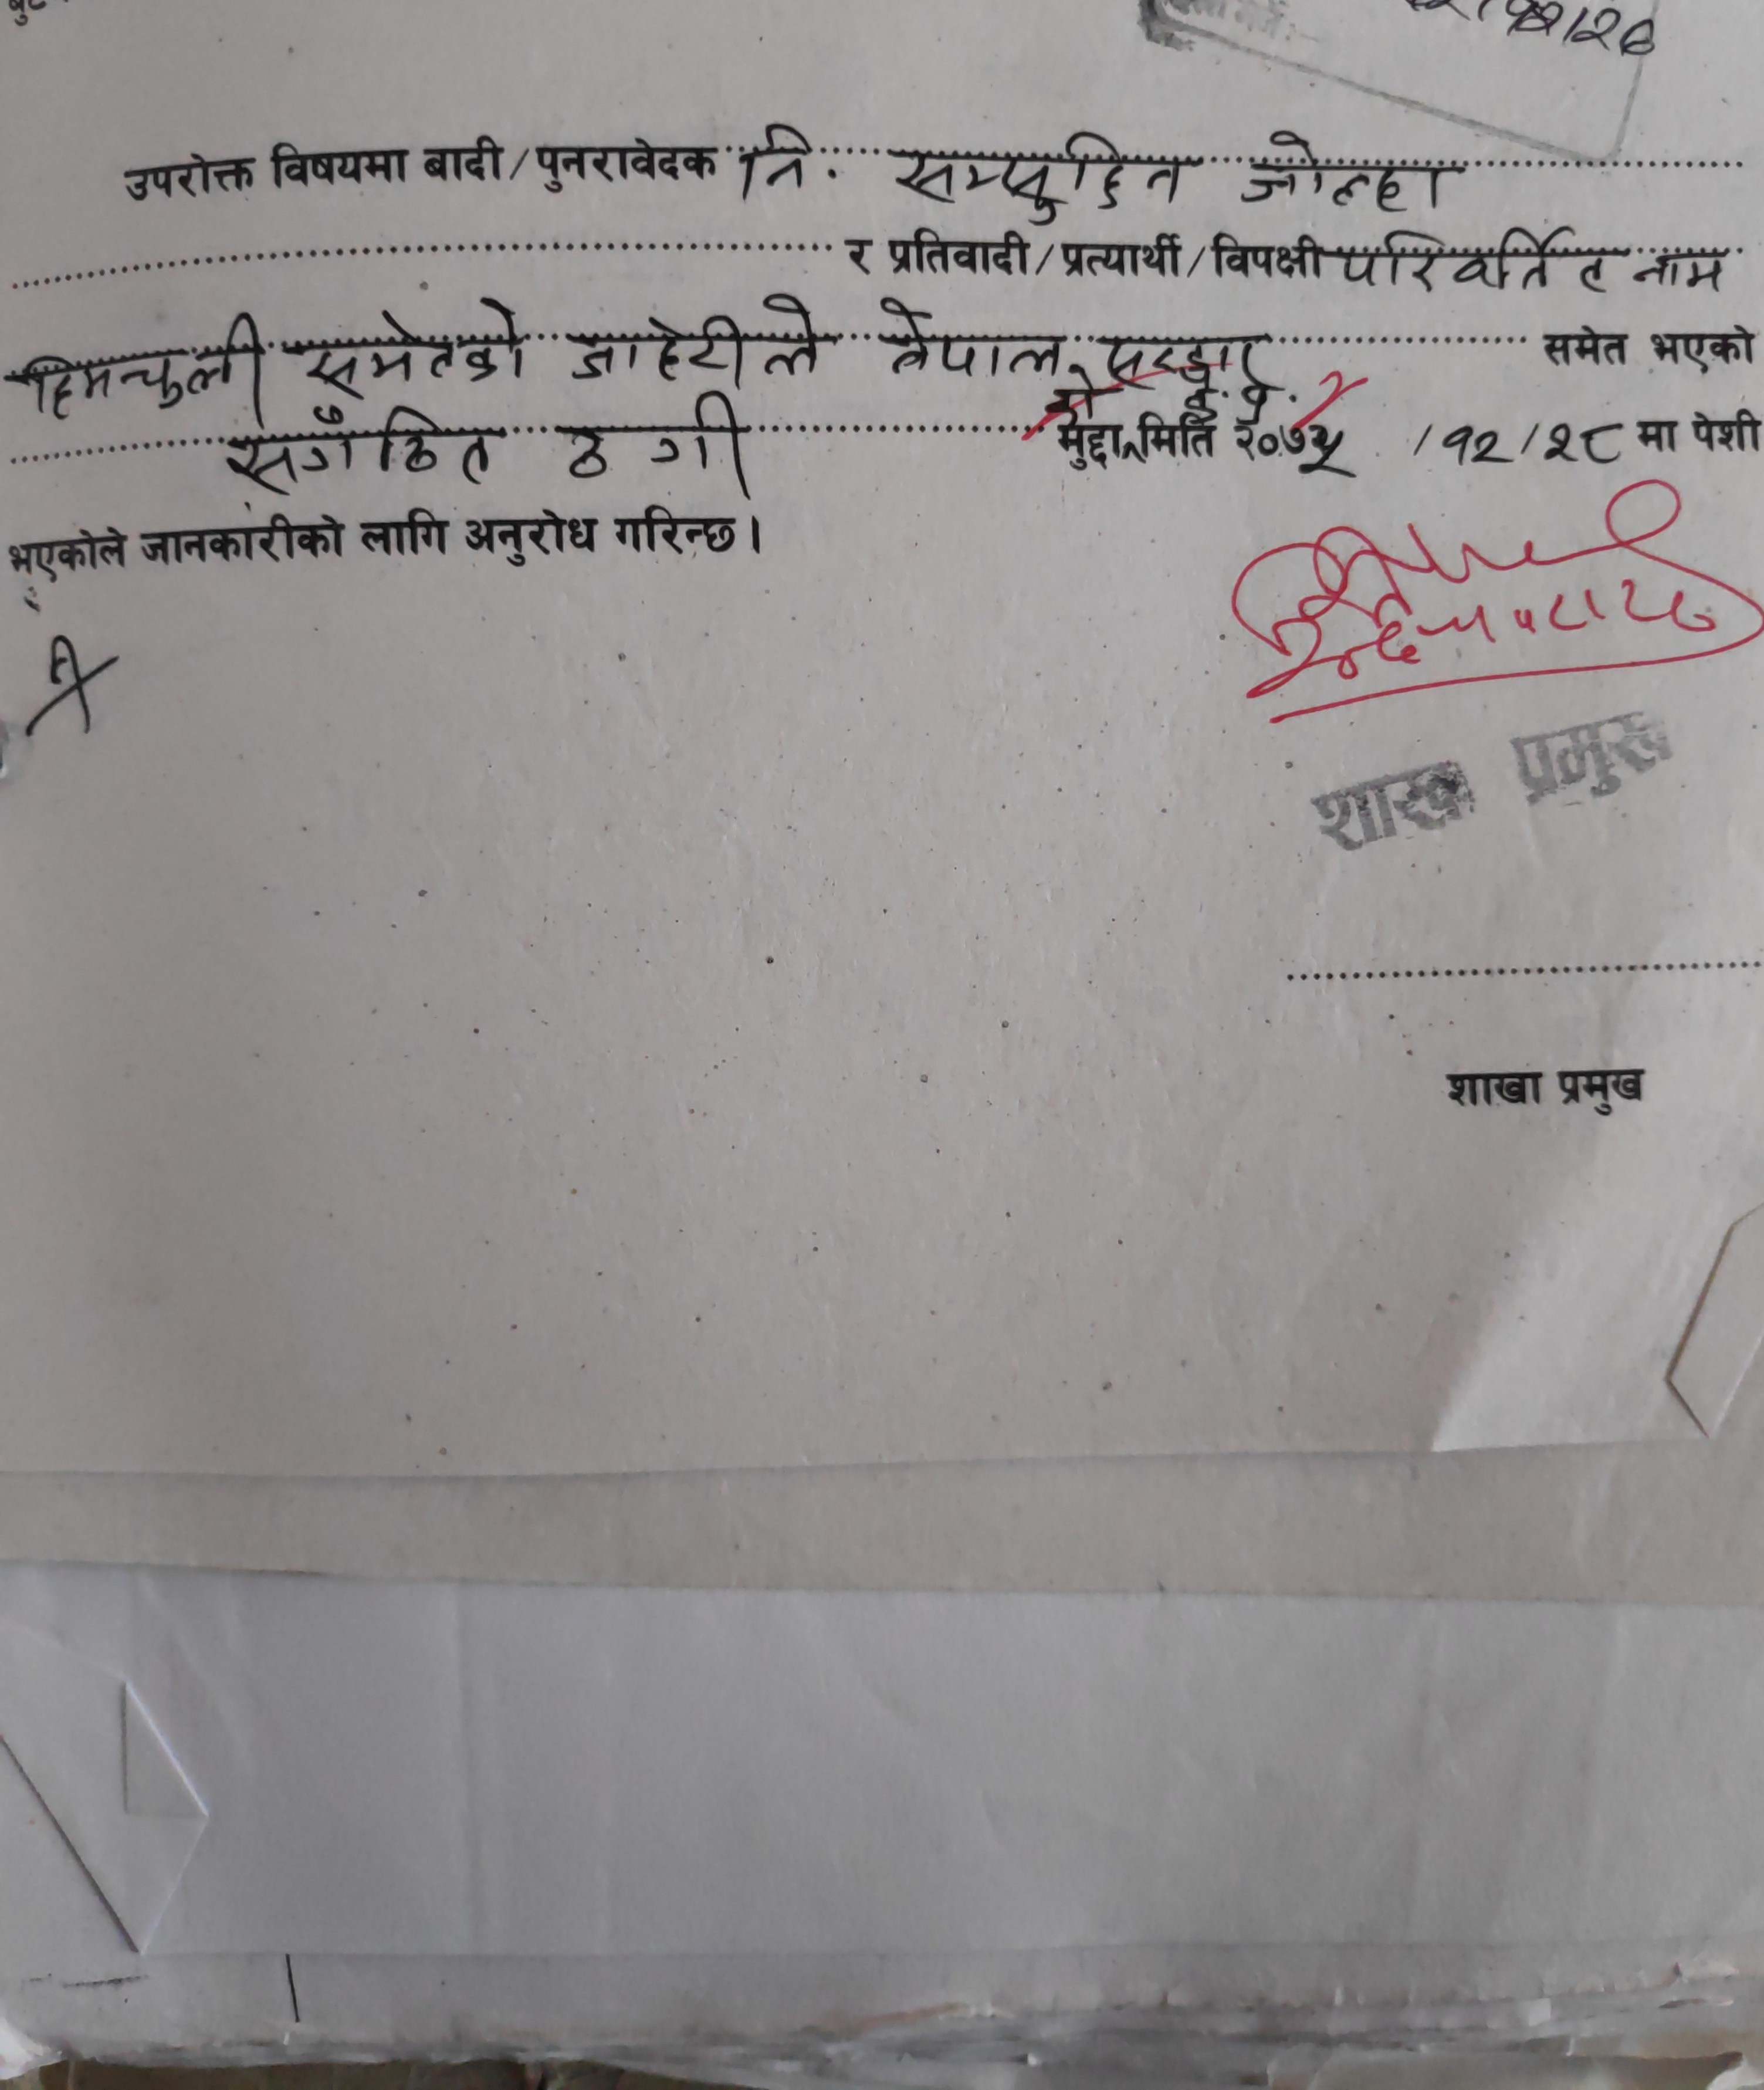text: (875, 133, 1193, 224), (21, 312, 268, 427), (562, 287, 819, 392), (226, 404, 506, 499), (310, 296, 535, 392), (1337, 222, 1612, 299), (556, 394, 765, 494), (1235, 128, 1458, 219), (868, 294, 1067, 383), (1099, 326, 1270, 387), (740, 123, 815, 208), (1633, 245, 1741, 294)
